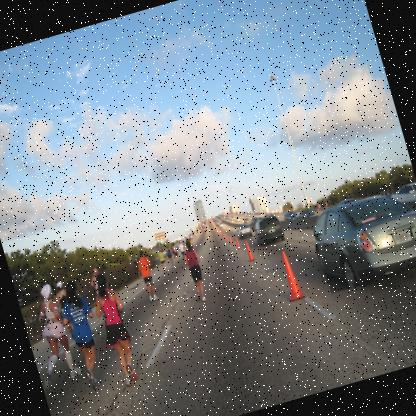Car: (308, 183, 415, 296), (217, 202, 262, 233), (251, 212, 284, 244), (389, 181, 415, 213), (235, 224, 252, 240), (282, 208, 298, 222), (335, 197, 356, 207), (297, 208, 316, 219), (210, 214, 222, 228), (18, 298, 25, 306)
